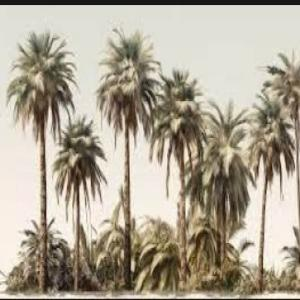palm tree: (6, 29, 78, 293), (95, 25, 164, 290), (148, 67, 210, 289), (245, 86, 296, 291), (198, 97, 254, 280), (50, 109, 106, 291), (264, 47, 299, 254)
